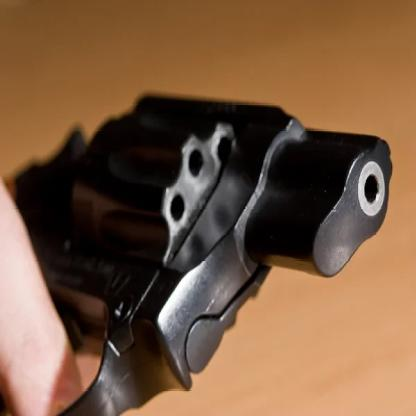handgun: (3, 84, 395, 416)
